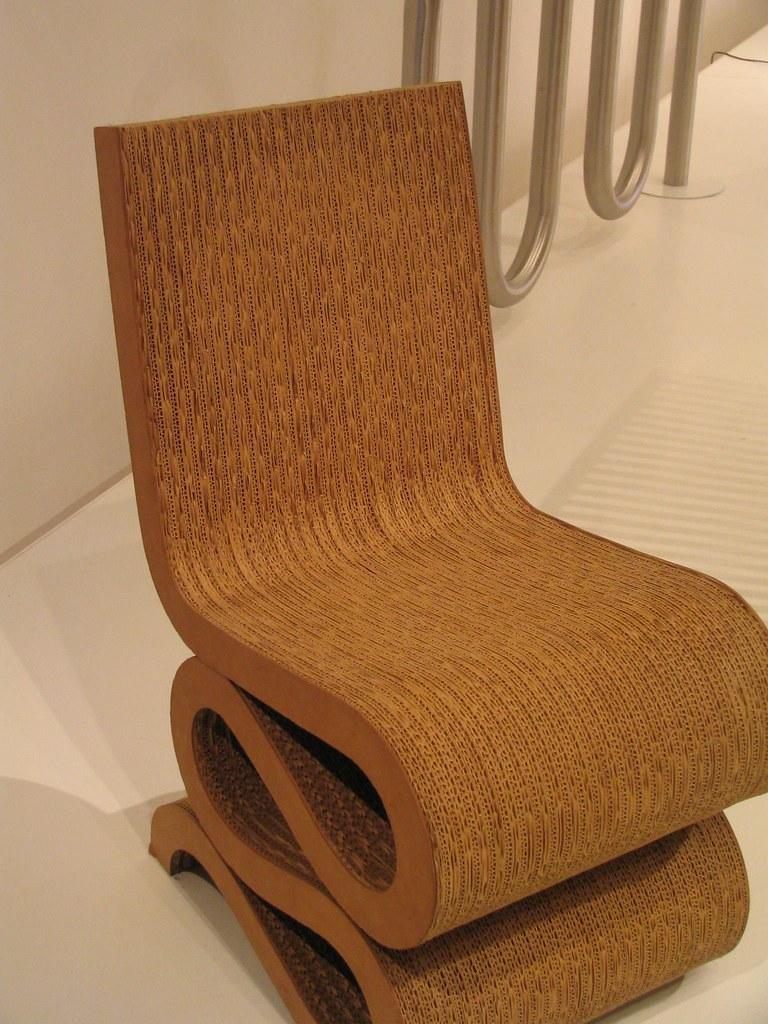chair: (93, 79, 767, 1023)
